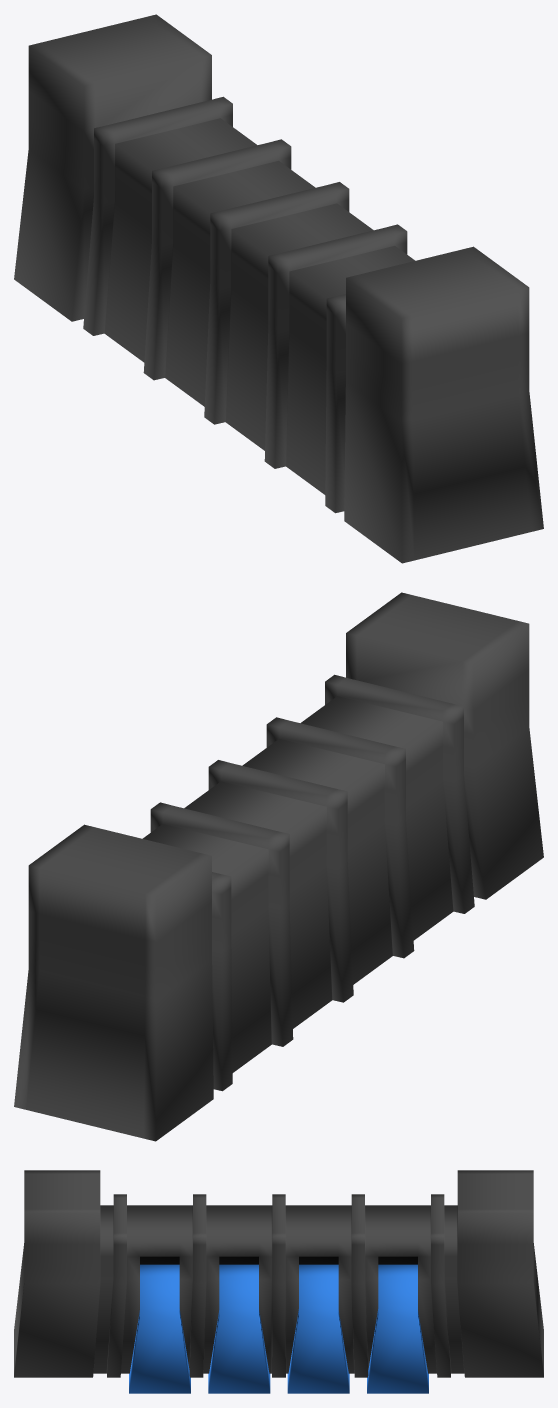
The model's file is Represa.fbx.
3 renders of one model, top to bottom at view 1: azimuth 30°, elevation 25°; view 2: azimuth 150°, elevation 25°; view 3: azimuth 270°, elevation 25°, orthographic. The views are drawn at different scales.
Visible parts, largest first — view 1: Cube; view 2: Cube; view 3: Cube.
Part boxes in pixels (left/top/right/bottom): Cube: left=14, top=14, right=543, bottom=563; Cube: left=14, top=592, right=543, bottom=1141; Cube: left=14, top=1170, right=543, bottom=1393.
Size of the model in its own units: 435 by 583 by 1675.
